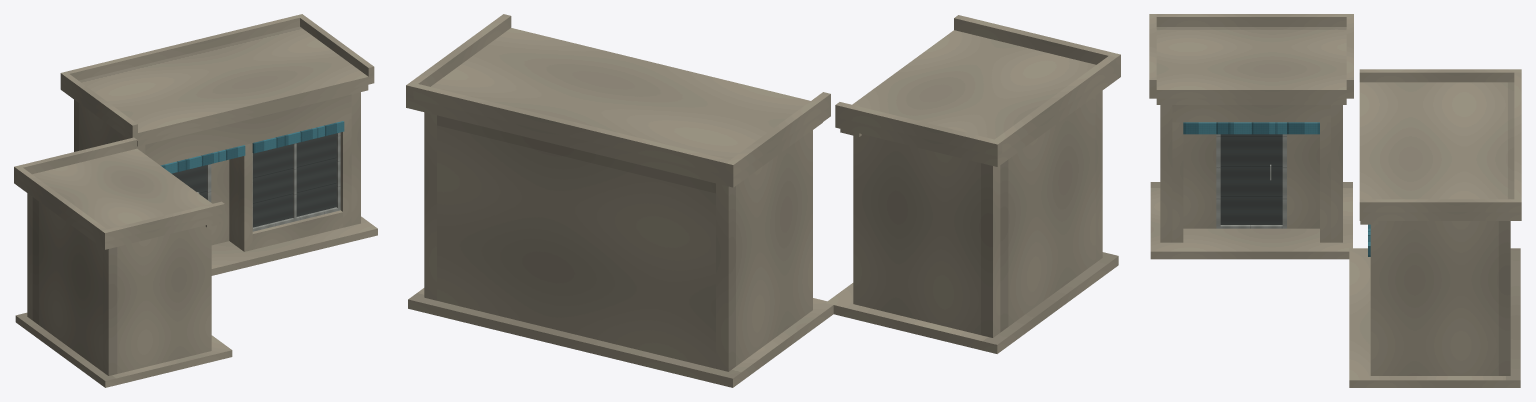
3 renders of one model, left to right at view 1: azimuth 30°, elevation 25°; view 2: azimuth 150°, elevation 25°; view 3: azimuth 270°, elevation 25°, orthographic. The views are drawn at different scales.
Parts seen in each view (by area): view 1: kabul; view 2: kabul; view 3: kabul.
Part boxes in pixels (x1,y1,x2,y2): kabul: (14,14,377,387); kabul: (406,14,1120,387); kabul: (1149,14,1521,387).
Bounding box in the file's own units: 7.73 × 3.36 × 6.1.
Materials: 1 (1 with a texture image).
